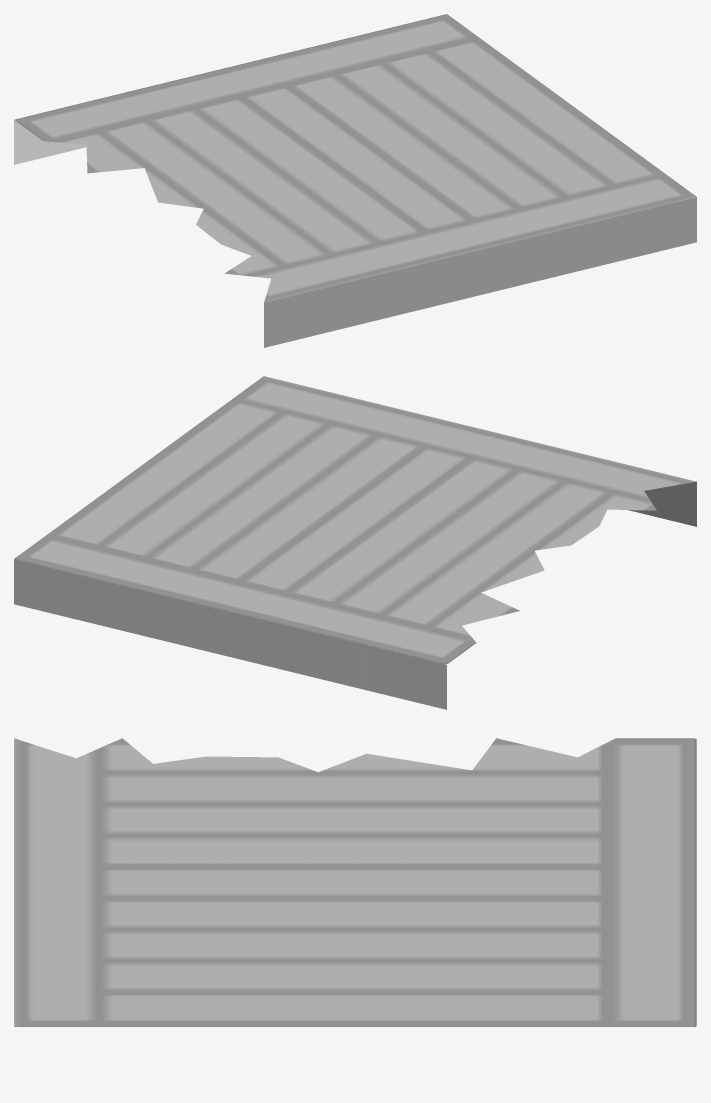
File: Mod_TileBroken_06.fbx
The picture shows the model from 3 angles, top to bottom: view 1: azimuth 30°, elevation 25°; view 2: azimuth 150°, elevation 25°; view 3: azimuth 270°, elevation 25°; orthographic projection. The views are drawn at different scales.
Visible parts, largest first — view 1: Mod_TileBroken_06; view 2: Mod_TileBroken_06; view 3: Mod_TileBroken_06.
Boxes of the visible parts, box(x1,y1,x2,y2) form: Mod_TileBroken_06: box(14, 14, 696, 347); Mod_TileBroken_06: box(14, 376, 696, 709); Mod_TileBroken_06: box(14, 738, 696, 1026).
Size of the model in its own units: 100 by 10 by 100.
